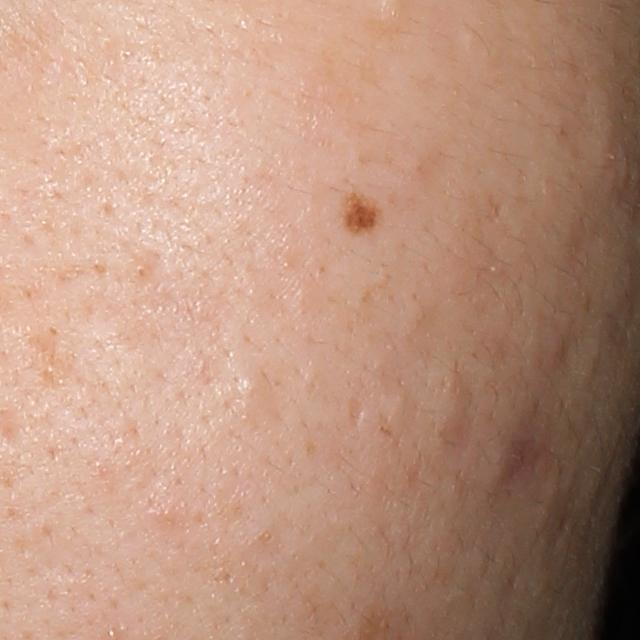atrophic_scar: (345, 394, 363, 427)
comedo: (476, 423, 540, 496), (234, 376, 261, 401)
nevus: (339, 191, 382, 237)
